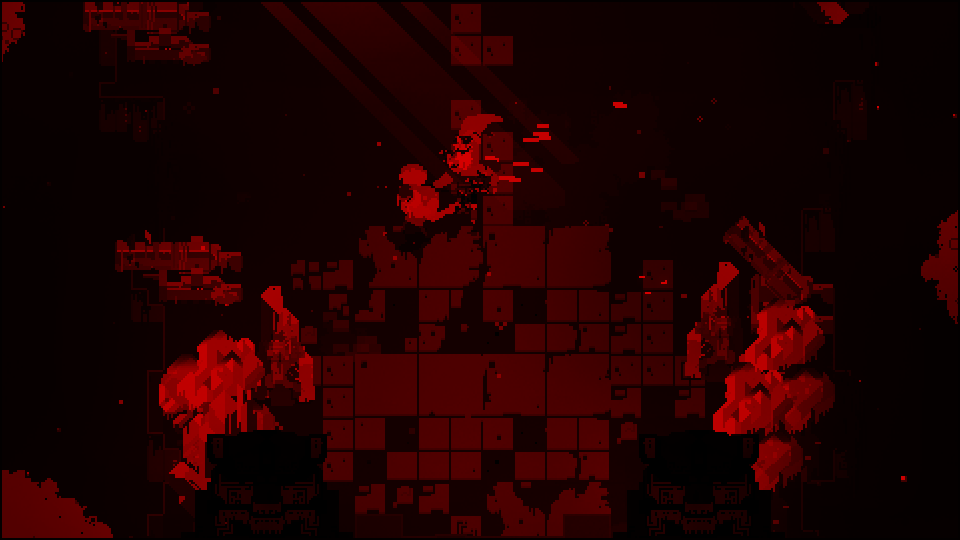hanged_man: (425, 105, 507, 226)
